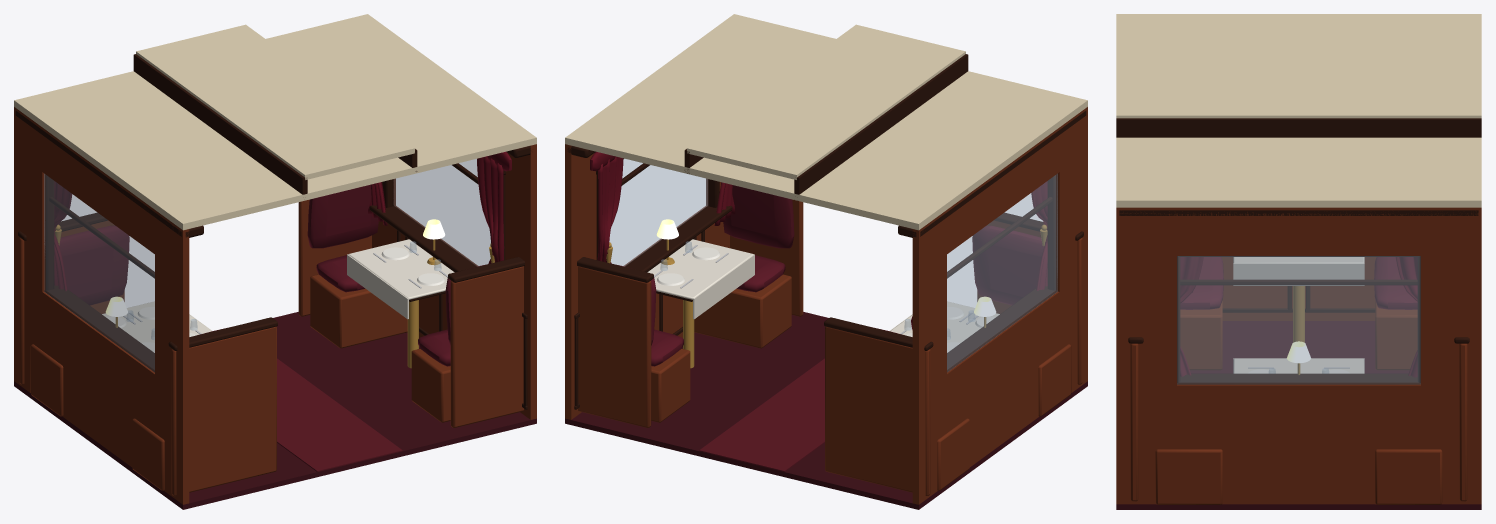
File: dining_bay.glb
3 renders of one model, left to right at view 1: azimuth 30°, elevation 25°; view 2: azimuth 150°, elevation 25°; view 3: azimuth 270°, elevation 25°, orthographic. The views are drawn at different scales.
Visible parts, largest first — view 1: dining_bay, dining_bay_glass; view 2: dining_bay, dining_bay_glass; view 3: dining_bay, dining_bay_glass.
Part boxes in pixels (x1=…): dining_bay: x1=14, y1=14, x2=536, y2=509; dining_bay_glass: x1=44, y1=159, x2=490, y2=371; dining_bay: x1=565, y1=14, x2=1087, y2=509; dining_bay_glass: x1=609, y1=159, x2=1057, y2=371; dining_bay: x1=1116, y1=14, x2=1481, y2=509; dining_bay_glass: x1=1177, y1=256, x2=1420, y2=384.
Size of the model in its own units: 2.94 by 2.39 by 2.4.
